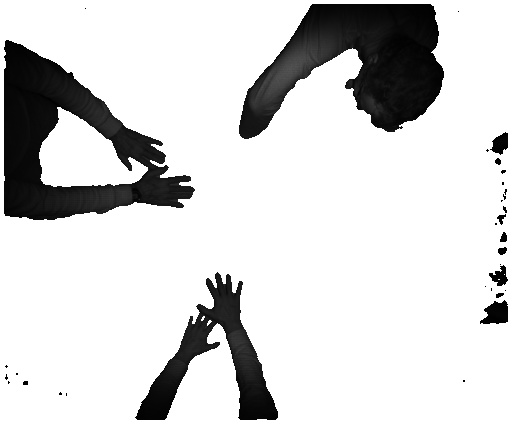hand: (116, 120, 168, 172), (199, 273, 247, 325), (138, 168, 199, 207), (180, 314, 222, 356)
